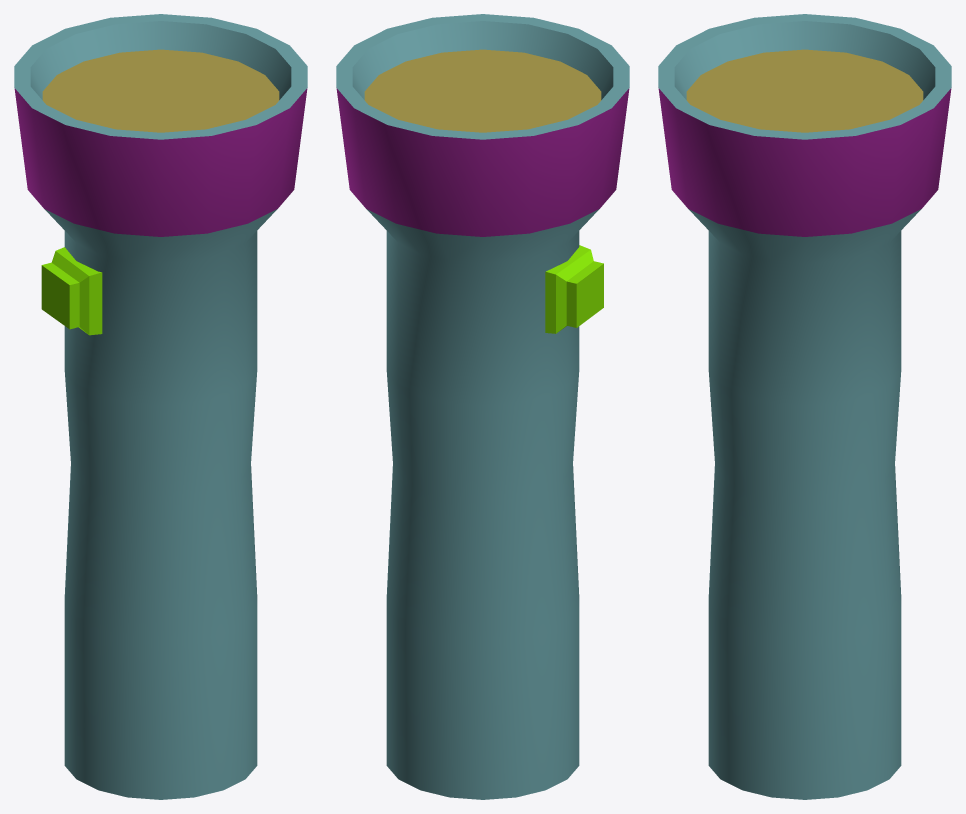
The model's file is flash.fbx.
3 renders of one model, left to right at view 1: azimuth 30°, elevation 25°; view 2: azimuth 150°, elevation 25°; view 3: azimuth 270°, elevation 25°, orthographic.
Parts seen in each view (by area): view 1: pCylinder2; view 2: pCylinder2; view 3: pCylinder2.
Boxes of the visible parts, x1,y1,x2,y2 form: pCylinder2: (14,14,307,799); pCylinder2: (336,14,629,799); pCylinder2: (658,14,951,799).
Bounding box in the file's own units: 2.7 × 6.84 × 2.66.
